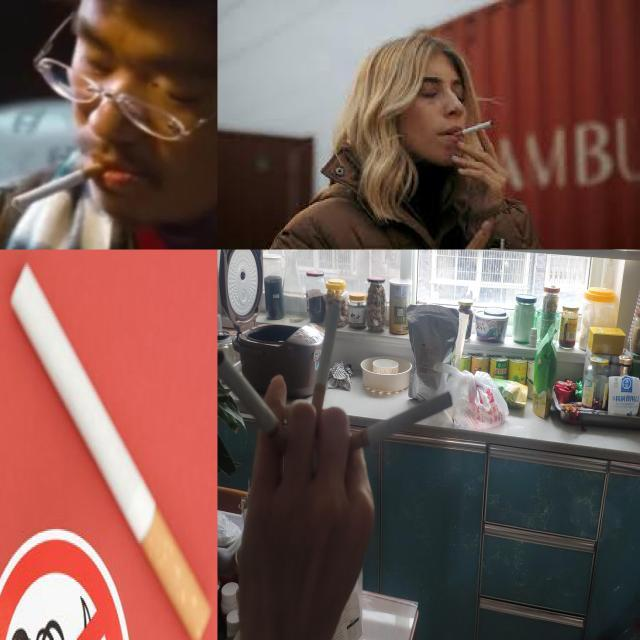smoking: (10, 260, 212, 637), (218, 348, 298, 466), (339, 391, 455, 458), (305, 301, 343, 441), (12, 162, 108, 212), (454, 120, 494, 138)
